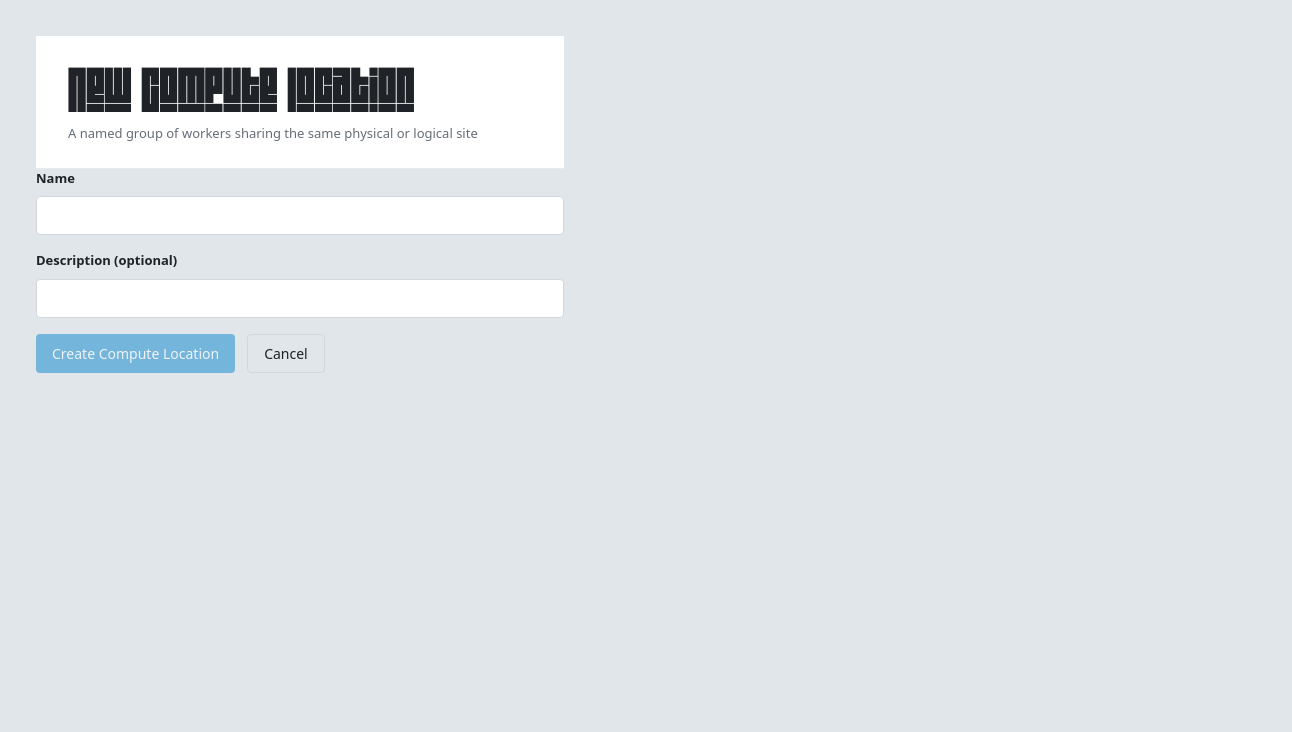
Test case: ComputeLocationForm (create) › POSTs name and description on valid submit
Type "on-prem" into the field labelled "Name" at (300, 216), box left=36, top=196, right=564, bottom=235
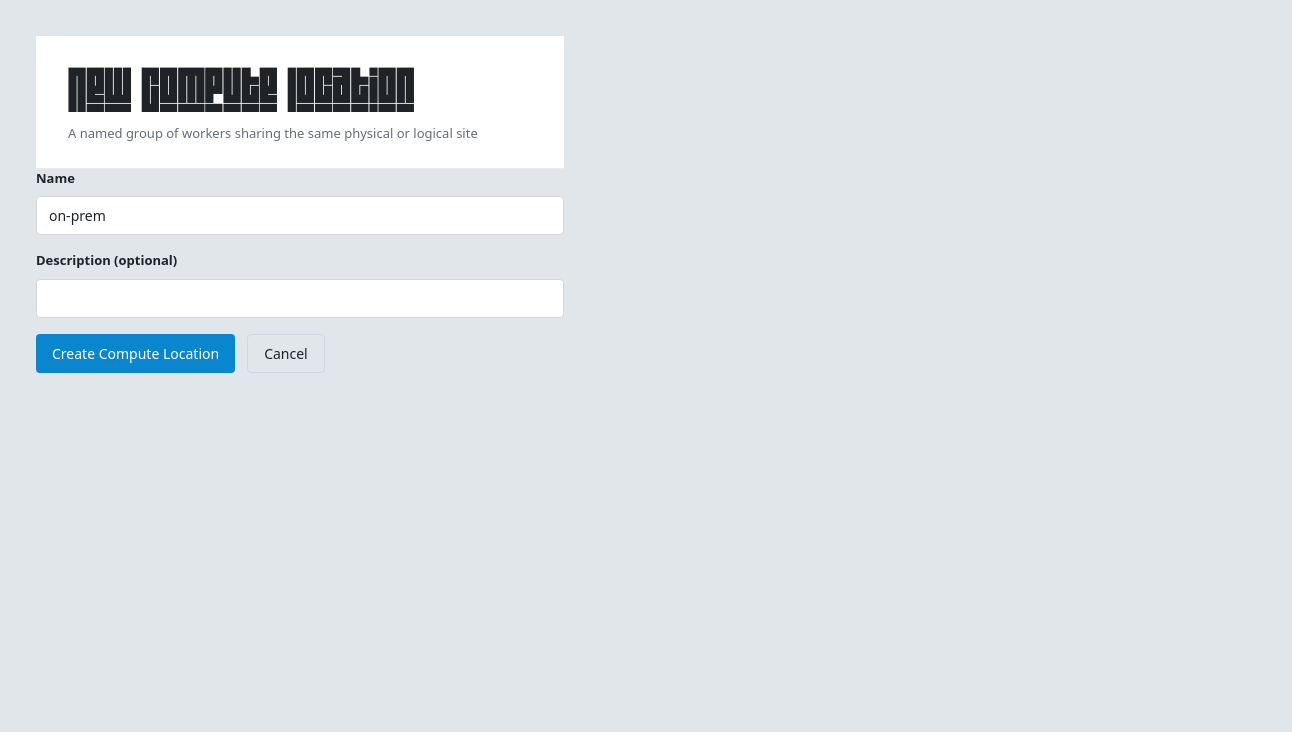
Type "On-premise rack" into the field labelled "Description (optional)" at (300, 298), box left=36, top=278, right=564, bottom=318
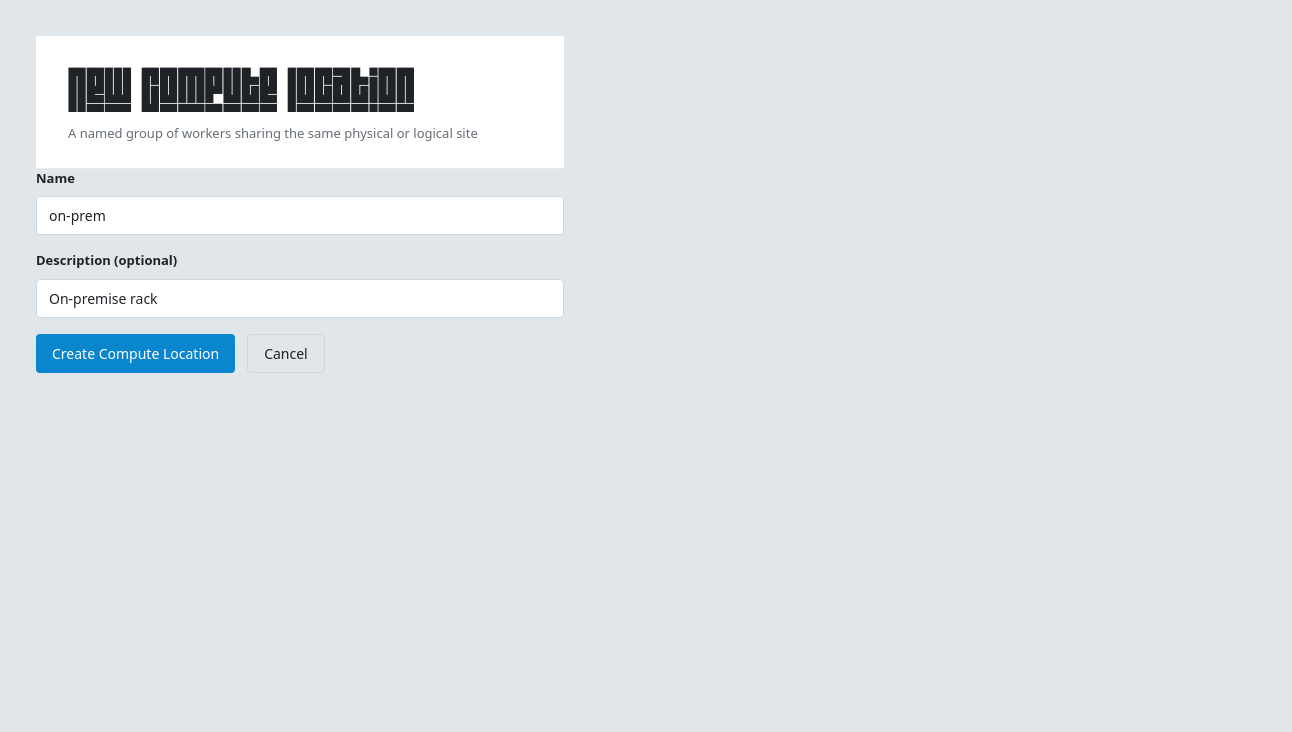
Click the button "Create Compute Location" at (136, 353), box left=36, top=334, right=235, bottom=372
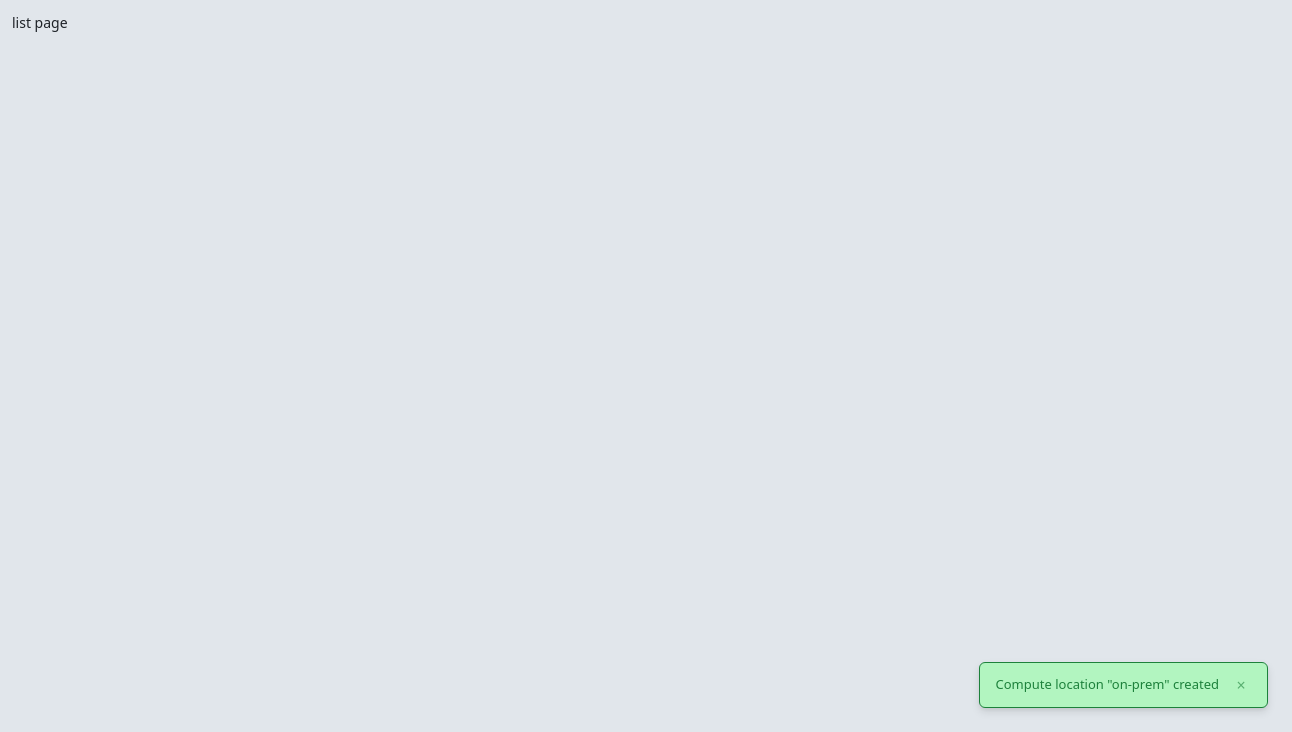
Check: the text "list page" is shown, box left=12, top=13, right=68, bottom=32
